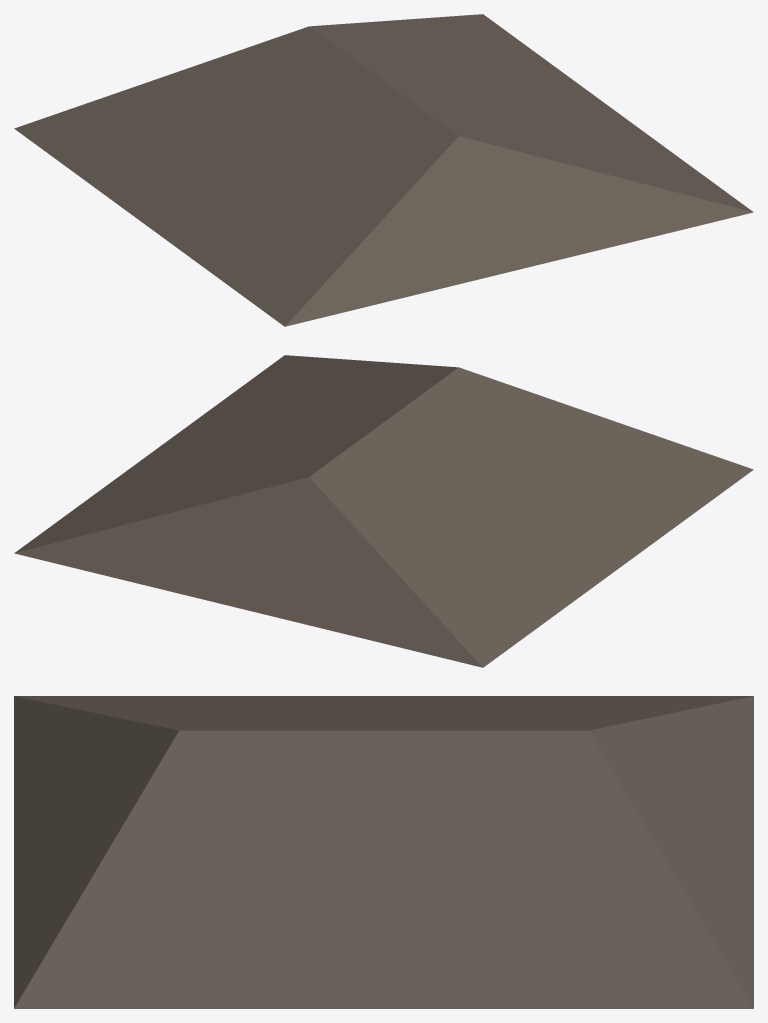
The model's file is building-02-top-02.glb.
3 renders of one model, top to bottom at view 1: azimuth 30°, elevation 25°; view 2: azimuth 150°, elevation 25°; view 3: azimuth 270°, elevation 25°, orthographic. The views are drawn at different scales.
Parts seen in each view (by area): view 1: building-02-top-02; view 2: building-02-top-02; view 3: building-02-top-02.
Boxes of the visible parts, box(x1,y1,x2,y2) form: building-02-top-02: box(14, 14, 753, 326); building-02-top-02: box(14, 355, 753, 667); building-02-top-02: box(14, 696, 753, 1008).
Size of the model in its own units: 17.6 by 3.2 by 17.6.
Materials: 1 (1 with a texture image).
